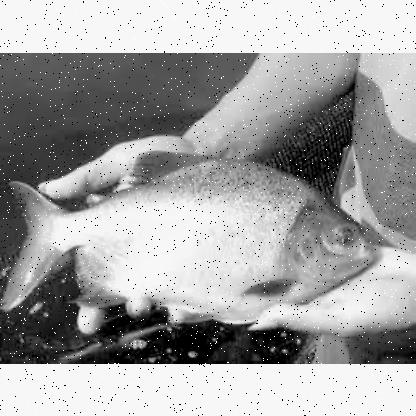ikan-pacu: (0, 151, 374, 320)
